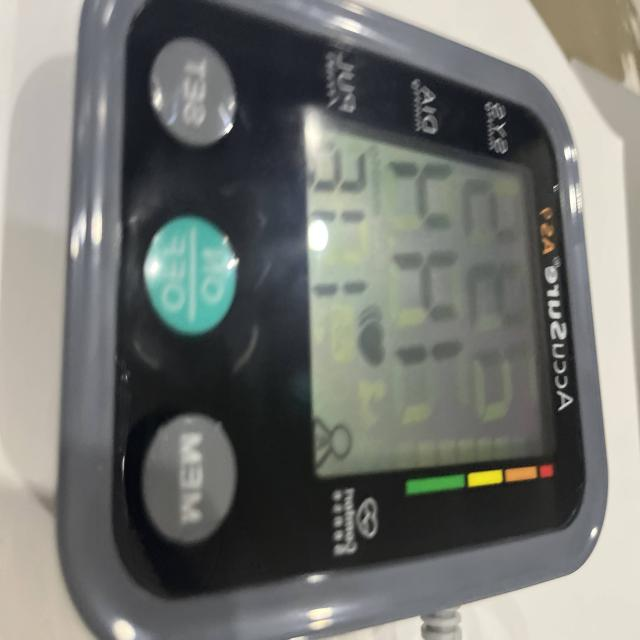bp: (51, 0, 640, 640)
